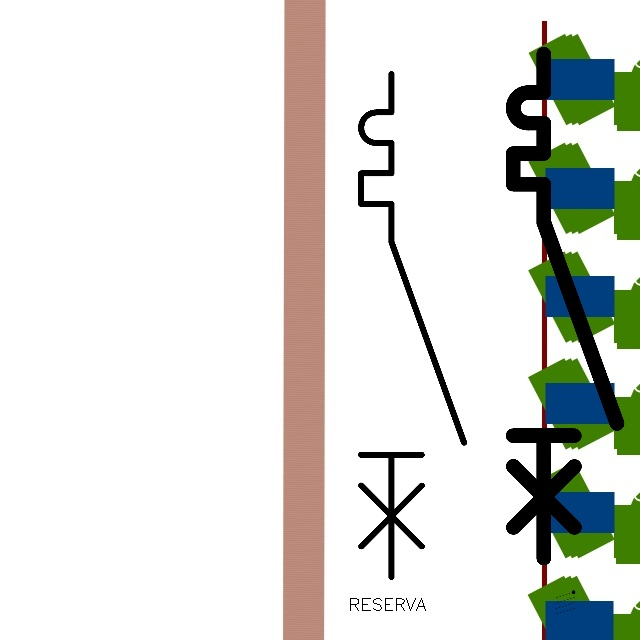interruptor_termomagnetico: (348, 61, 477, 590), (500, 41, 629, 570)
